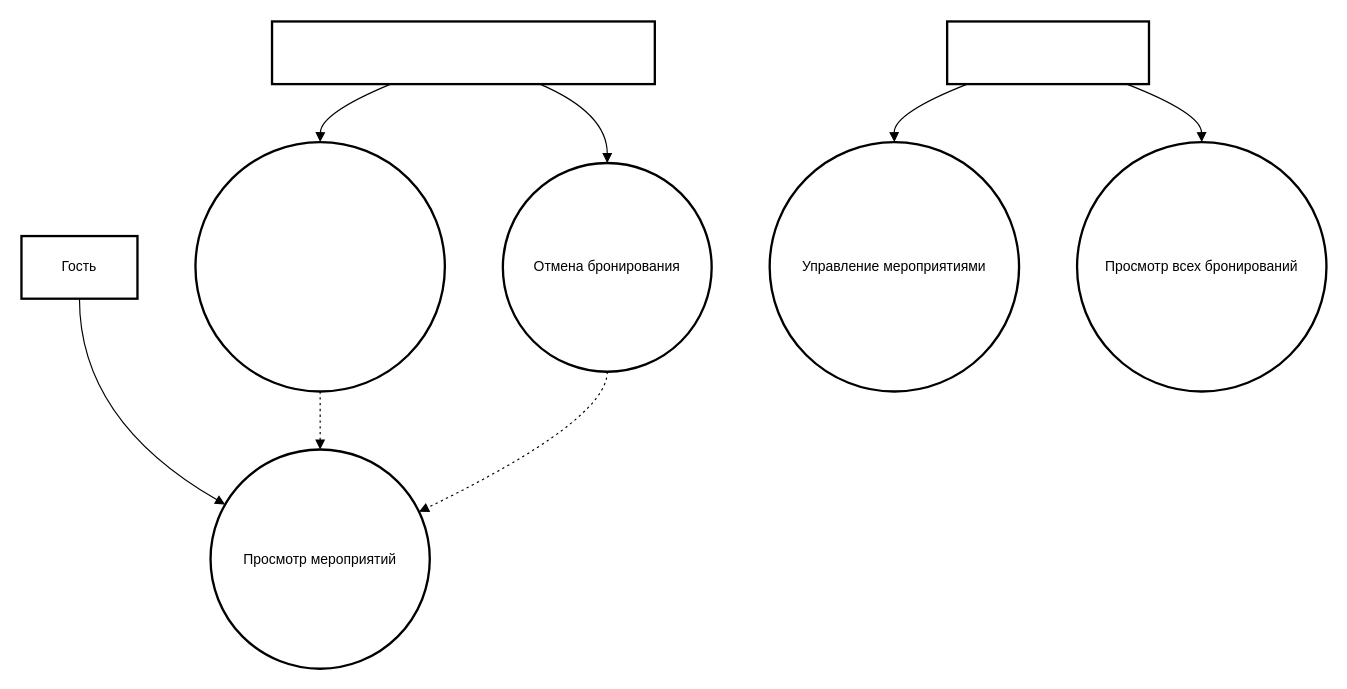
Some shapes in this 1347 by 689 pixel diagram are drawn without their labels. Each missing label, with the centre of its shape:
"Администратор" goes at [1047,52].
"Бронирование мероприятия" goes at [319,266].
"Зарегистрированный пользователь" goes at [462,52].
